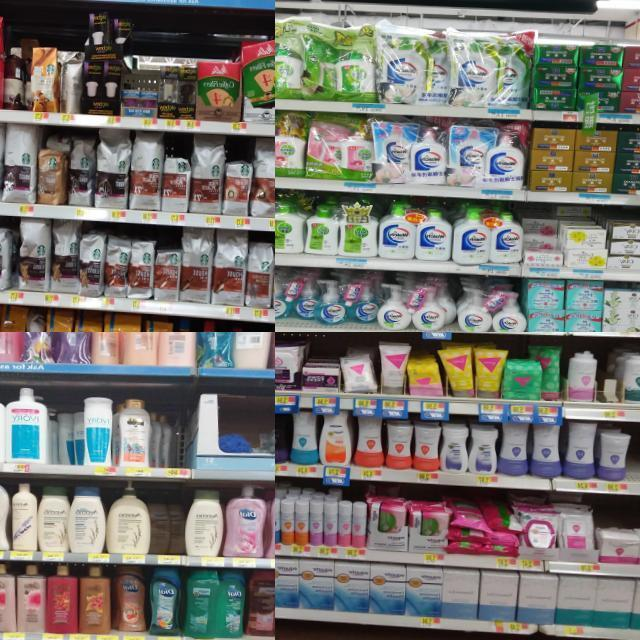Imprecise: (40, 390, 86, 466), (142, 494, 187, 564), (150, 406, 179, 464)
